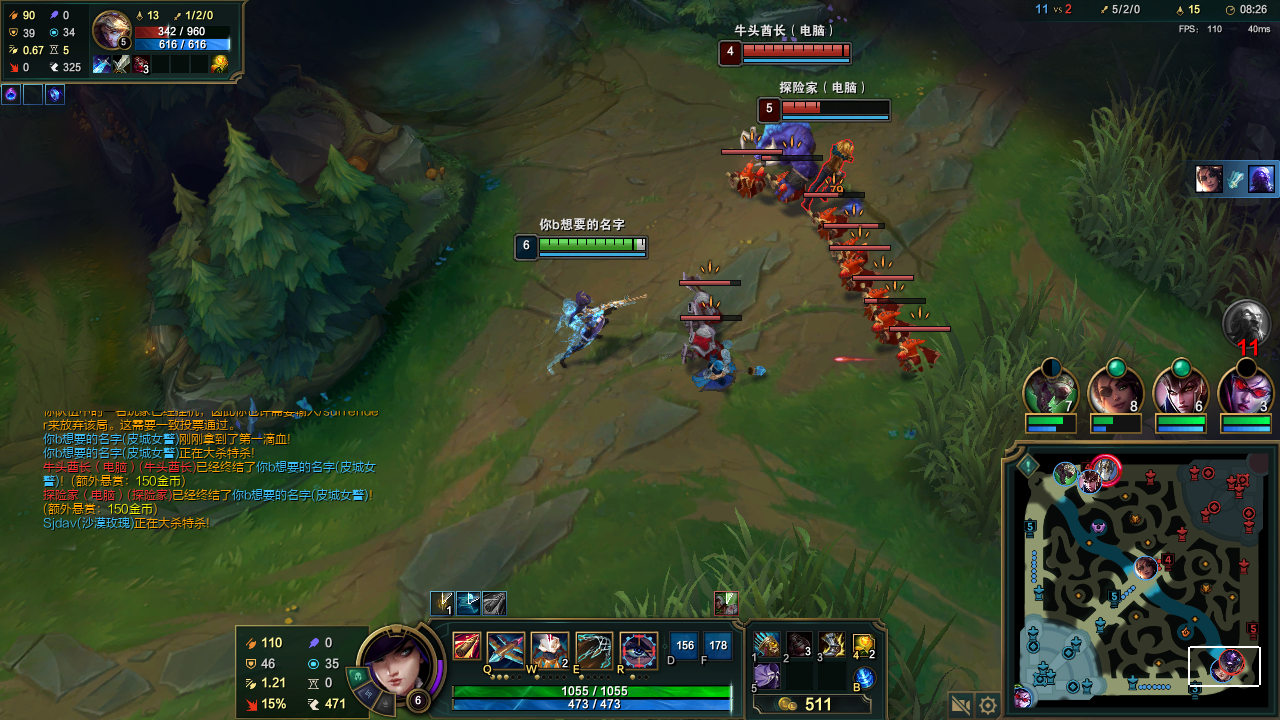DFXB: (898, 339, 939, 374), (875, 311, 914, 344), (683, 290, 719, 323), (690, 323, 721, 356), (726, 163, 758, 194), (837, 263, 871, 287), (834, 233, 866, 258), (819, 208, 845, 235), (861, 287, 892, 308), (775, 183, 796, 205)
DFYX: (744, 44, 848, 59), (781, 100, 867, 114)
